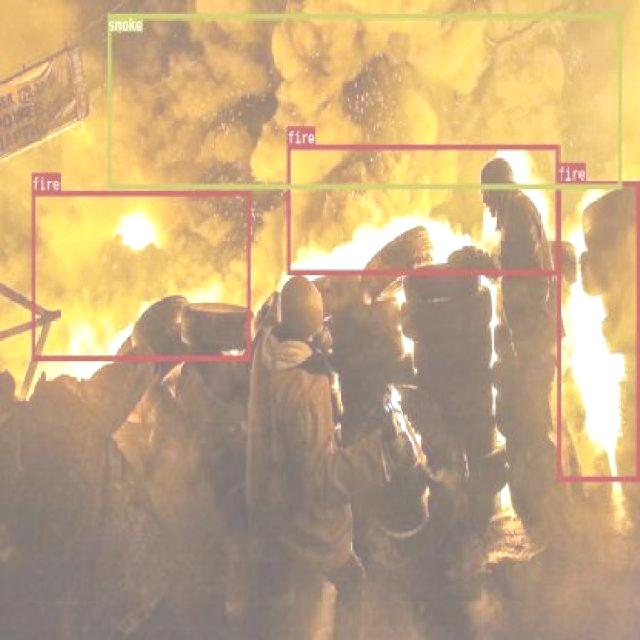fire: (32, 191, 250, 360), (286, 144, 559, 273), (556, 180, 638, 480)
smoke: (107, 12, 621, 188)
